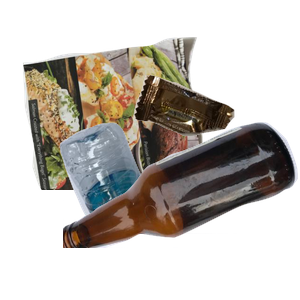glass: (63, 120, 300, 300)
paper: (20, 34, 221, 214)
plastic: (57, 120, 284, 300)
trash: (131, 73, 300, 202)
